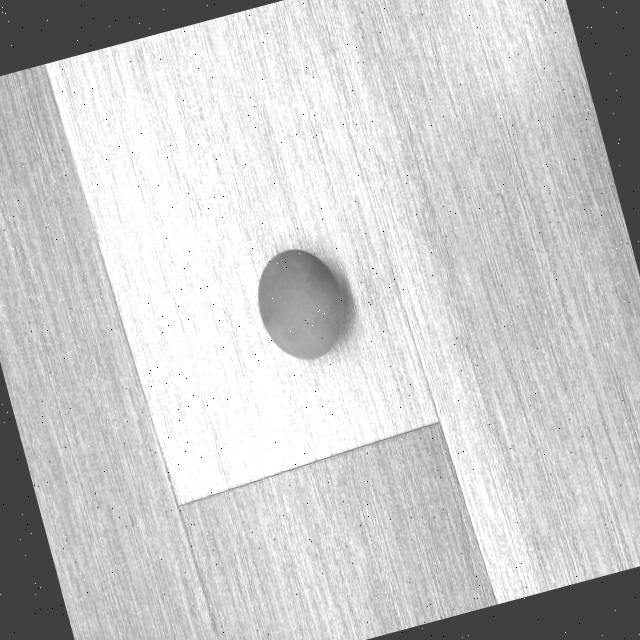ping-pong-ball: (242, 235, 355, 366)
